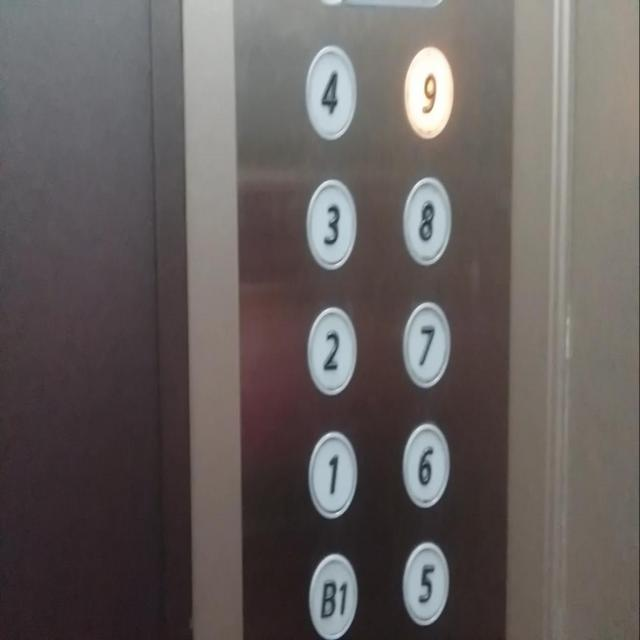1: (306, 425, 361, 523)
2: (305, 299, 359, 398)
3: (303, 170, 360, 275)
4: (303, 39, 359, 144)
5: (399, 536, 453, 628)
6: (399, 418, 453, 511)
7: (400, 298, 453, 391)
8: (401, 174, 454, 267)
9: (402, 41, 456, 138)
B1: (307, 547, 361, 639)
